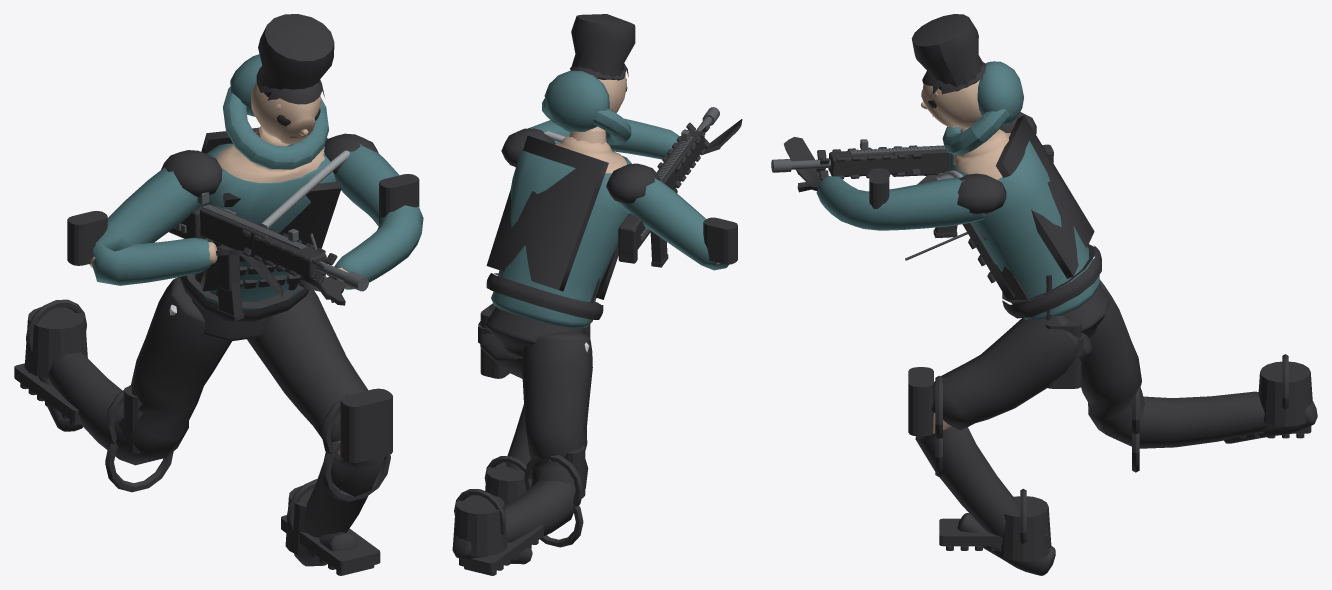
The model's file is arctic-station-fps-kit-attacker-medium-advancing-e7310a73__28524.glb.
The picture shows the model from 3 angles, left to right: view 1: azimuth 30°, elevation 25°; view 2: azimuth 150°, elevation 25°; view 3: azimuth 270°, elevation 25°; orthographic projection. The views are drawn at different scales.
Visible parts, largest first — view 1: attacker-medium-advancing; view 2: attacker-medium-advancing; view 3: attacker-medium-advancing.
Boxes of the visible parts, <box> form: attacker-medium-advancing: <box>14,14,423,575</box>; attacker-medium-advancing: <box>452,14,742,575</box>; attacker-medium-advancing: <box>771,14,1317,575</box>.
Bounding box in the file's own units: 0.8088 × 1.6 × 1.5.
